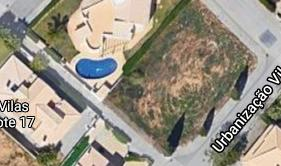pool: (74, 56, 119, 80)
